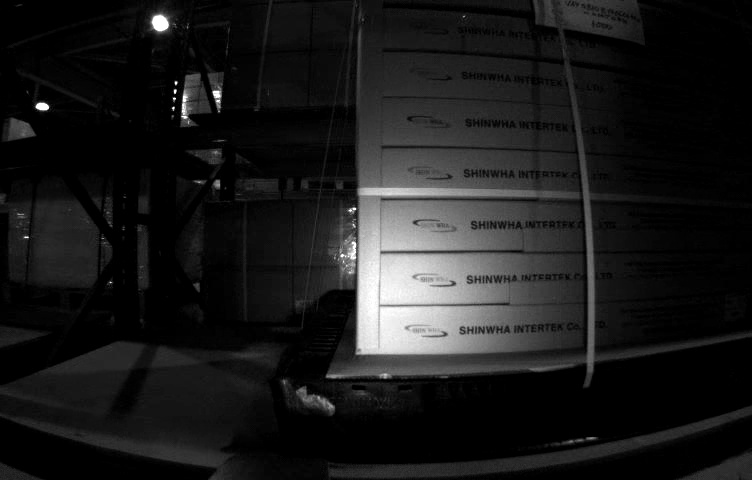True Barcode: (724, 293, 747, 321)
